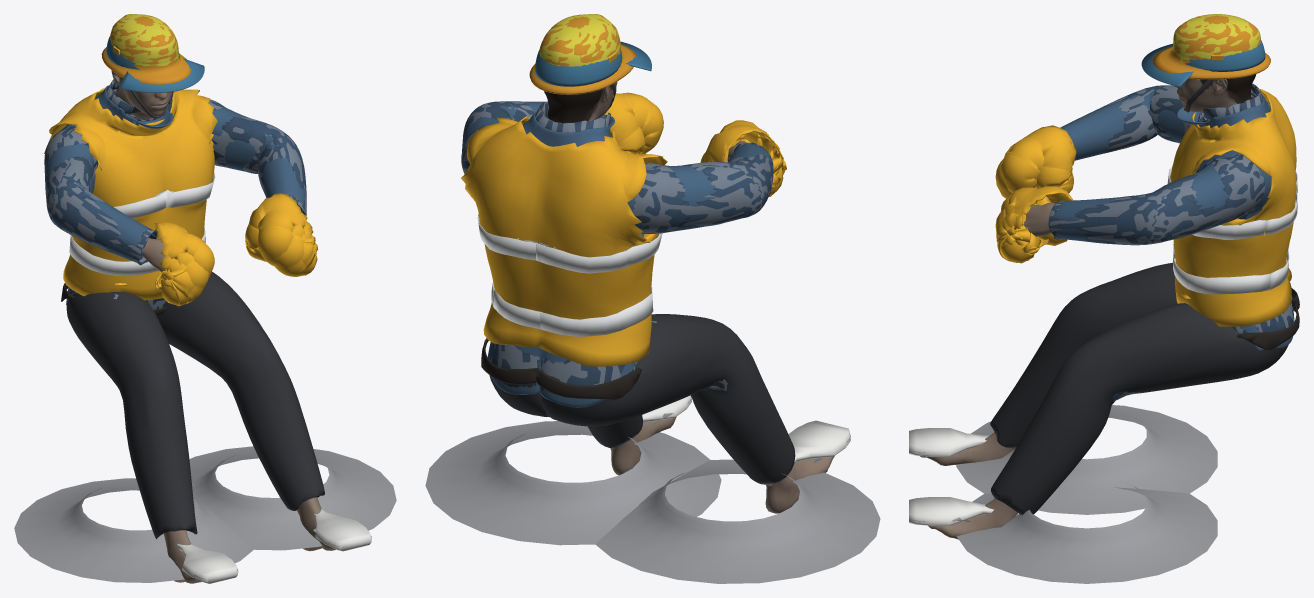
The model's file is motorista.glb.
3 renders of one model, left to right at view 1: azimuth 30°, elevation 25°; view 2: azimuth 150°, elevation 25°; view 3: azimuth 270°, elevation 25°, orthographic. The views are drawn at different scales.
Visible parts, largest first — view 1: mot_base_roupa, mot_colete_refletivo, mot_base_tenis, mot_vestimenta_fr, mot_camisa_algodao, mot_corpo, mot_capacete_b, mot_capacete_a, mot_bone; view 2: mot_base_tenis, mot_colete_refletivo, mot_base_roupa, mot_camisa_algodao, mot_vestimenta_fr, mot_corpo, mot_capacete_b, mot_capacete_a, mot_bone, mot_cabelo; view 3: mot_base_roupa, mot_base_tenis, mot_colete_refletivo, mot_vestimenta_fr, mot_camisa_algodao, mot_corpo, mot_capacete_b, mot_bone, mot_capacete_a, mot_cabelo.
Boxes of the visible parts, x1,y1,x2,y2 form: mot_base_roupa: [45, 85, 324, 539]; mot_colete_refletivo: [44, 88, 317, 306]; mot_base_tenis: [14, 446, 396, 583]; mot_vestimenta_fr: [44, 79, 306, 308]; mot_camisa_algodao: [44, 80, 306, 309]; mot_corpo: [111, 70, 335, 583]; mot_capacete_b: [101, 14, 191, 118]; mot_capacete_a: [110, 14, 178, 66]; mot_bone: [106, 36, 204, 92]; mot_base_tenis: [425, 395, 880, 583]; mot_colete_refletivo: [461, 92, 786, 366]; mot_base_roupa: [462, 101, 795, 484]; mot_camisa_algodao: [461, 101, 773, 390]; mot_vestimenta_fr: [461, 101, 773, 390]; mot_corpo: [547, 82, 834, 513]; mot_capacete_b: [529, 14, 636, 109]; mot_capacete_a: [539, 14, 621, 66]; mot_bone: [535, 41, 651, 86]; mot_cabelo: [544, 85, 612, 123]; mot_base_roupa: [990, 91, 1299, 515]; mot_base_tenis: [909, 405, 1217, 583]; mot_colete_refletivo: [995, 88, 1297, 326]; mot_vestimenta_fr: [1048, 84, 1294, 400]; mot_camisa_algodao: [1048, 83, 1294, 401]; mot_corpo: [920, 78, 1237, 539]; mot_capacete_b: [1152, 15, 1270, 112]; mot_bone: [1141, 40, 1265, 86]; mot_capacete_a: [1172, 14, 1260, 62]; mot_cabelo: [1200, 74, 1256, 103].
Size of the model in its own units: 1.08 by 1.39 by 0.9899.
17 materials, 4 textured.
